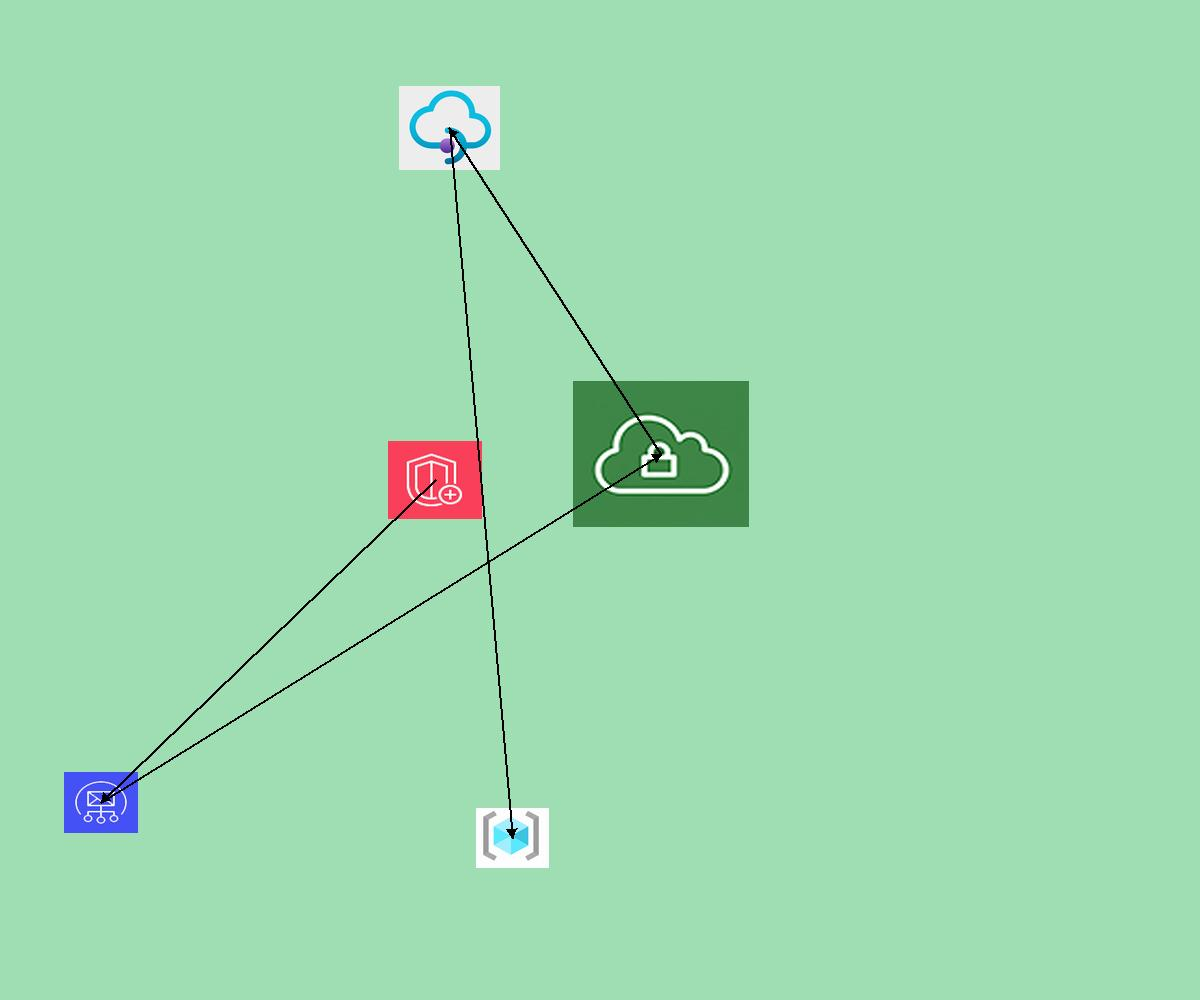AWS-Private_vpc: (573, 381, 749, 527)
AWS-Shield: (388, 441, 482, 519)
AWS-Simple-Email-Service: (64, 772, 138, 833)
Azure_api_gateway: (399, 86, 500, 170)
Azure_resource_group: (476, 808, 549, 868)
